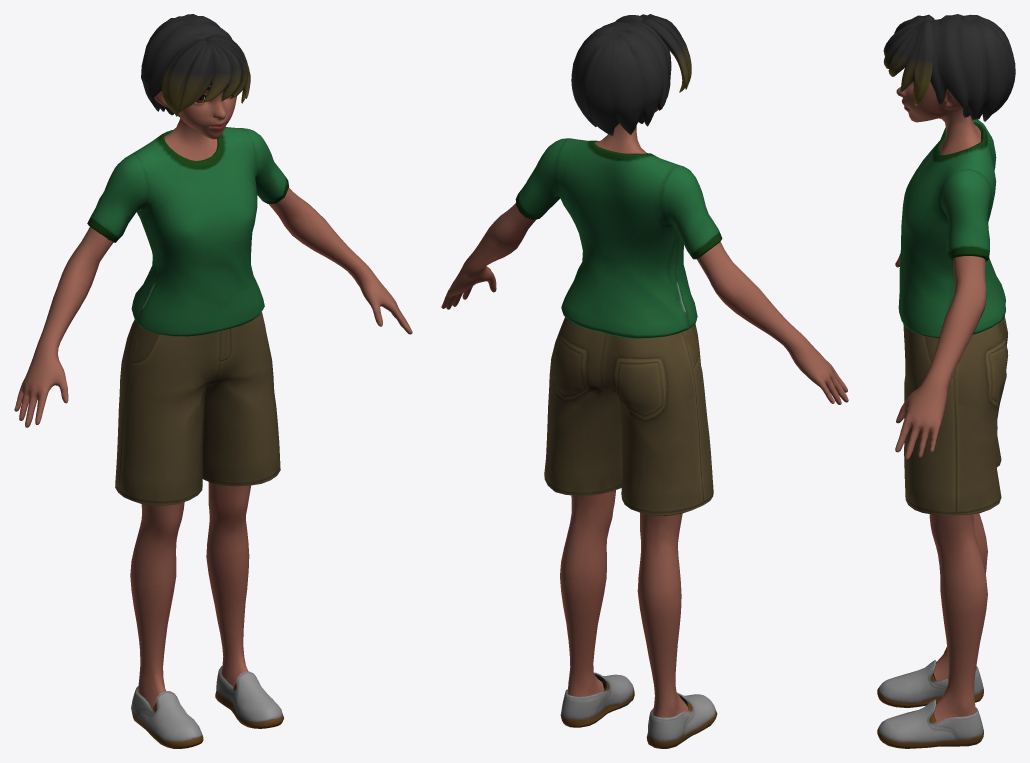
Rendered from Javi_Mesh.obj.
The picture shows the model from 3 angles, left to right: view 1: azimuth 30°, elevation 25°; view 2: azimuth 150°, elevation 25°; view 3: azimuth 270°, elevation 25°; orthographic projection. The views are drawn at different scales.
Visible parts, largest first — view 1: Javi_Mesh_0; view 2: Javi_Mesh_0; view 3: Javi_Mesh_0.
Boxes of the visible parts, x1=… form: Javi_Mesh_0: x1=14, y1=14, x2=412, y2=748; Javi_Mesh_0: x1=441, y1=14, x2=848, y2=748; Javi_Mesh_0: x1=877, y1=14, x2=1015, y2=748.
Size of the model in its own units: 1.06 by 1.8 by 0.3216.
1 material, 1 textured.
